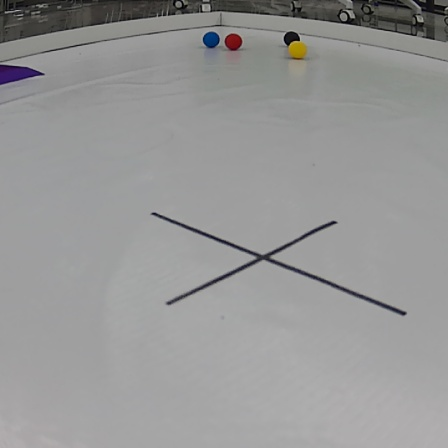black: (279, 28, 303, 50)
blue: (202, 30, 221, 48)
red: (223, 31, 244, 53)
red_aim: (0, 61, 48, 86)
yellow: (286, 40, 311, 59)
